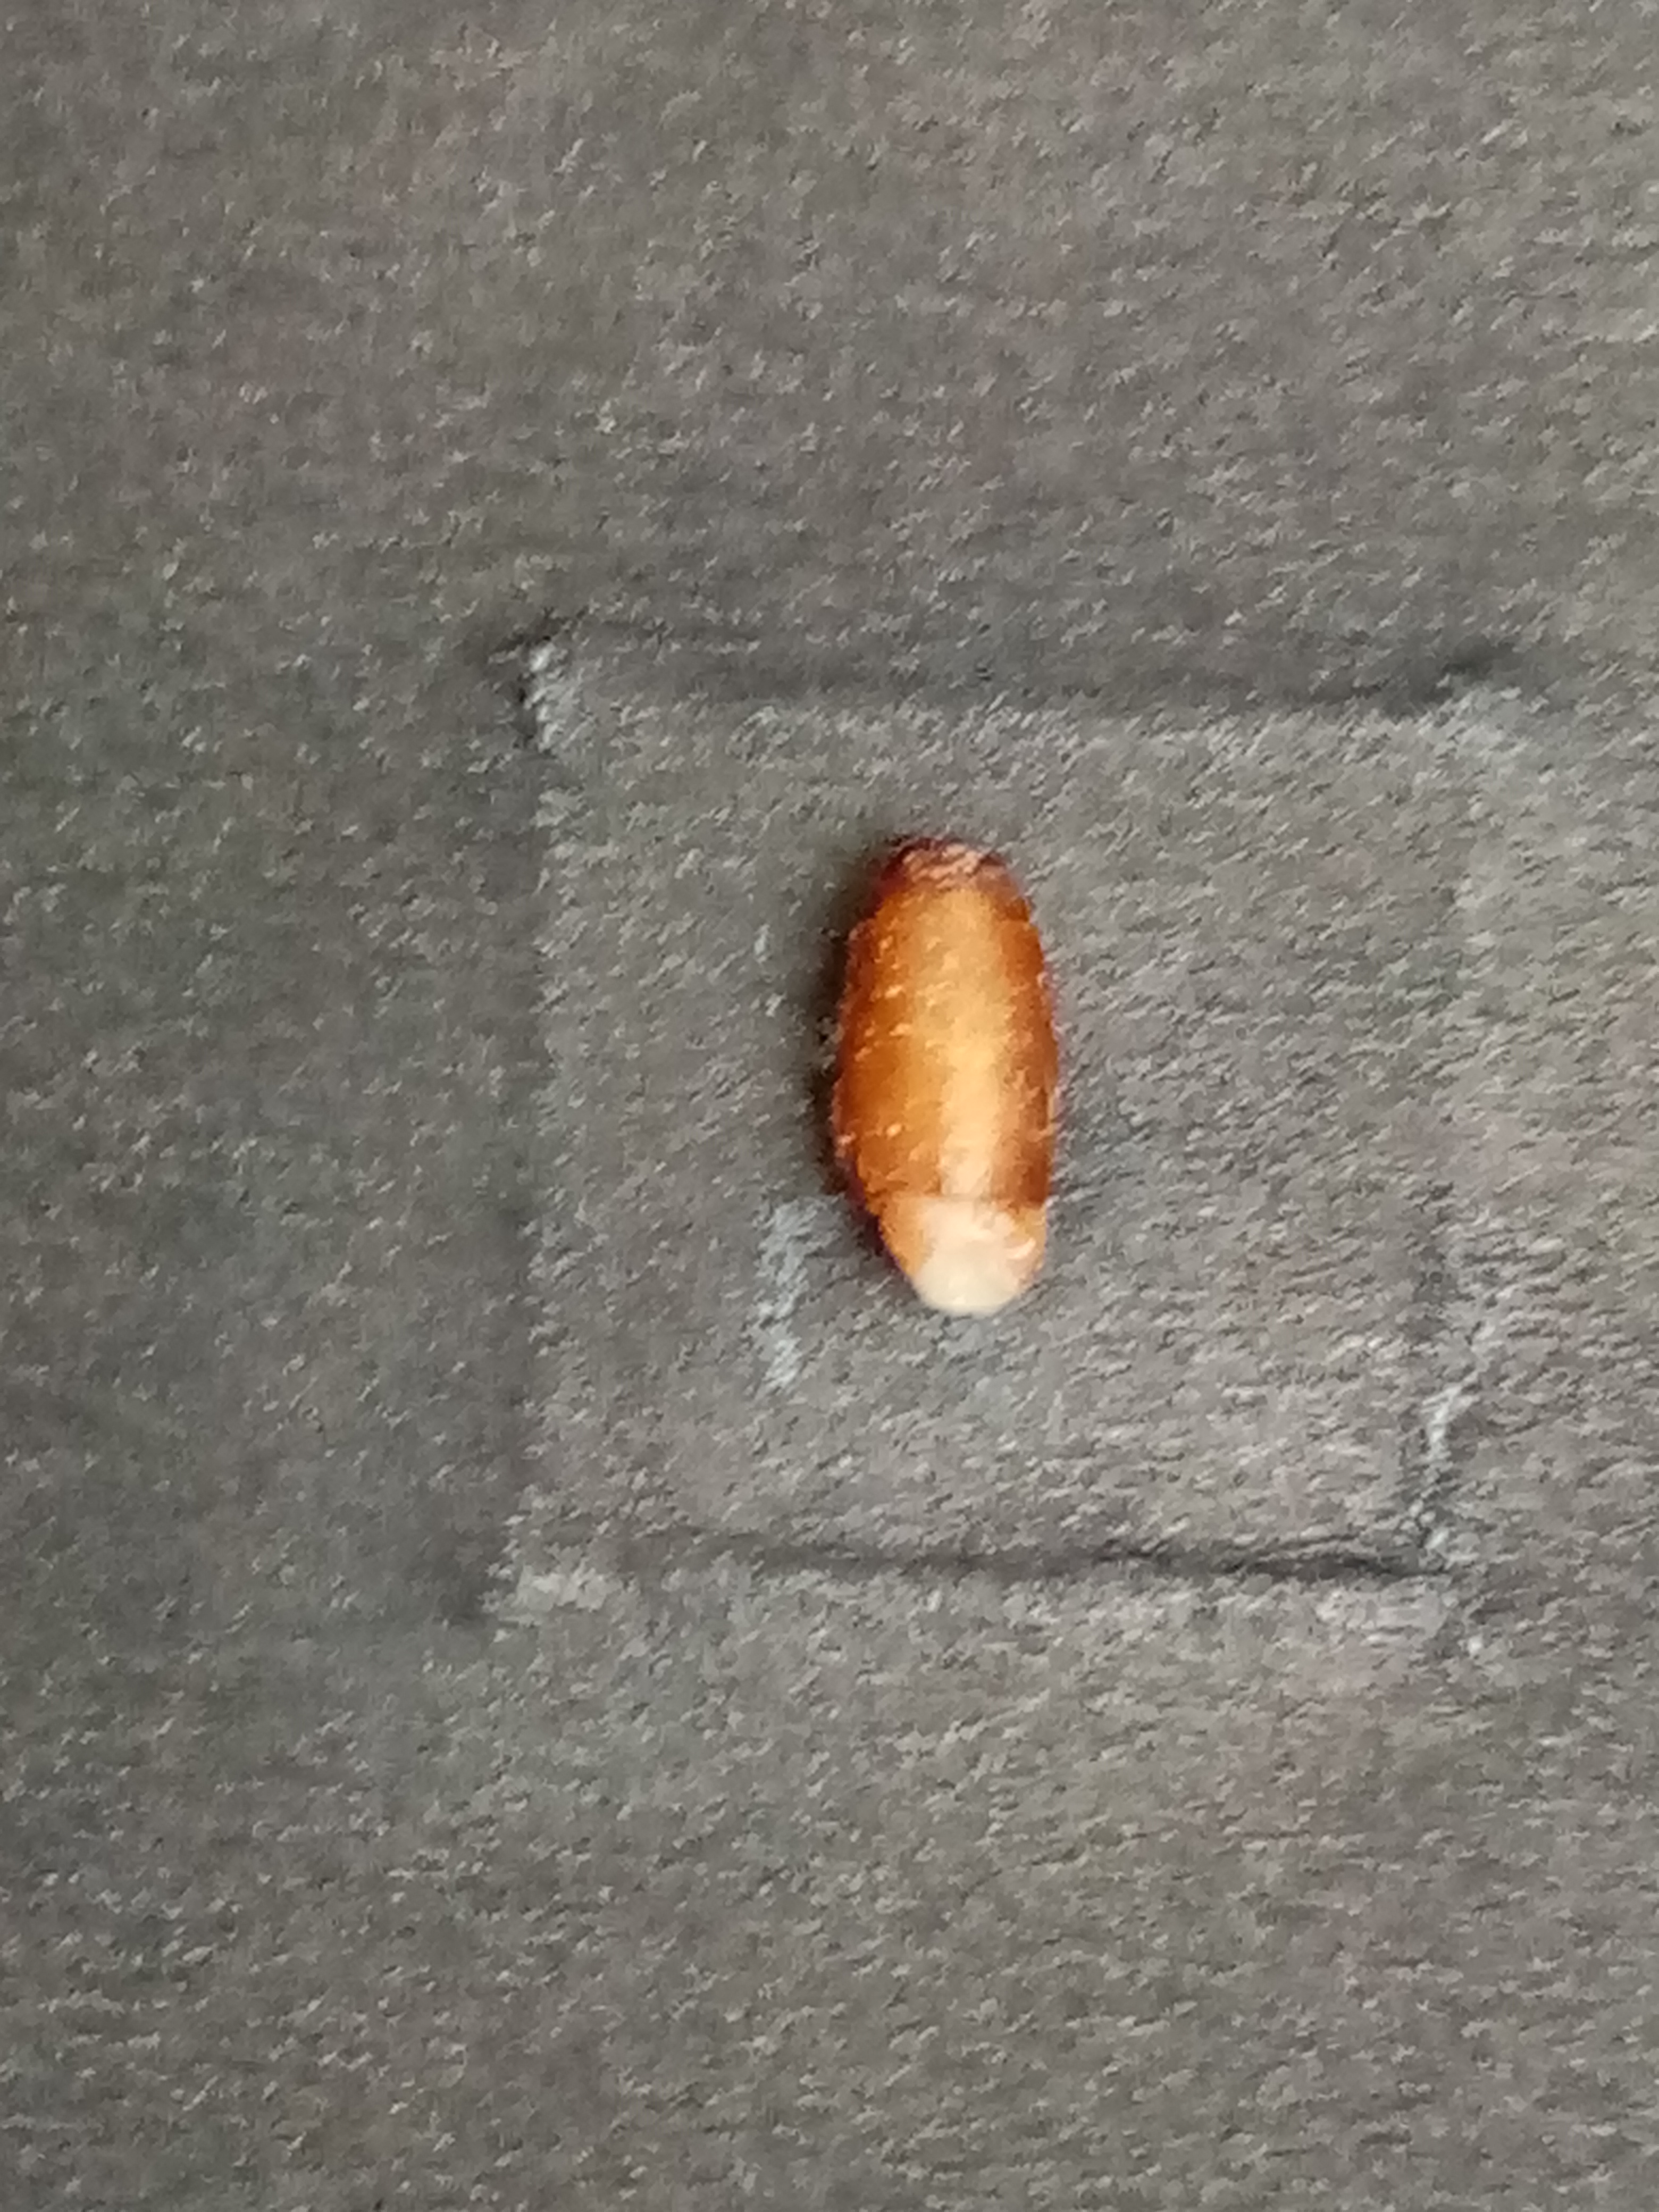pupa: (861, 1197, 1054, 1318)
